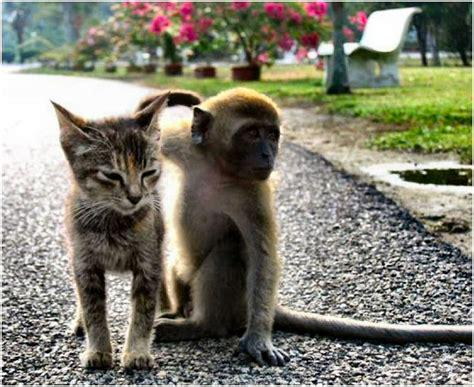cat: (51, 92, 170, 369)
monkey: (158, 87, 472, 364)
